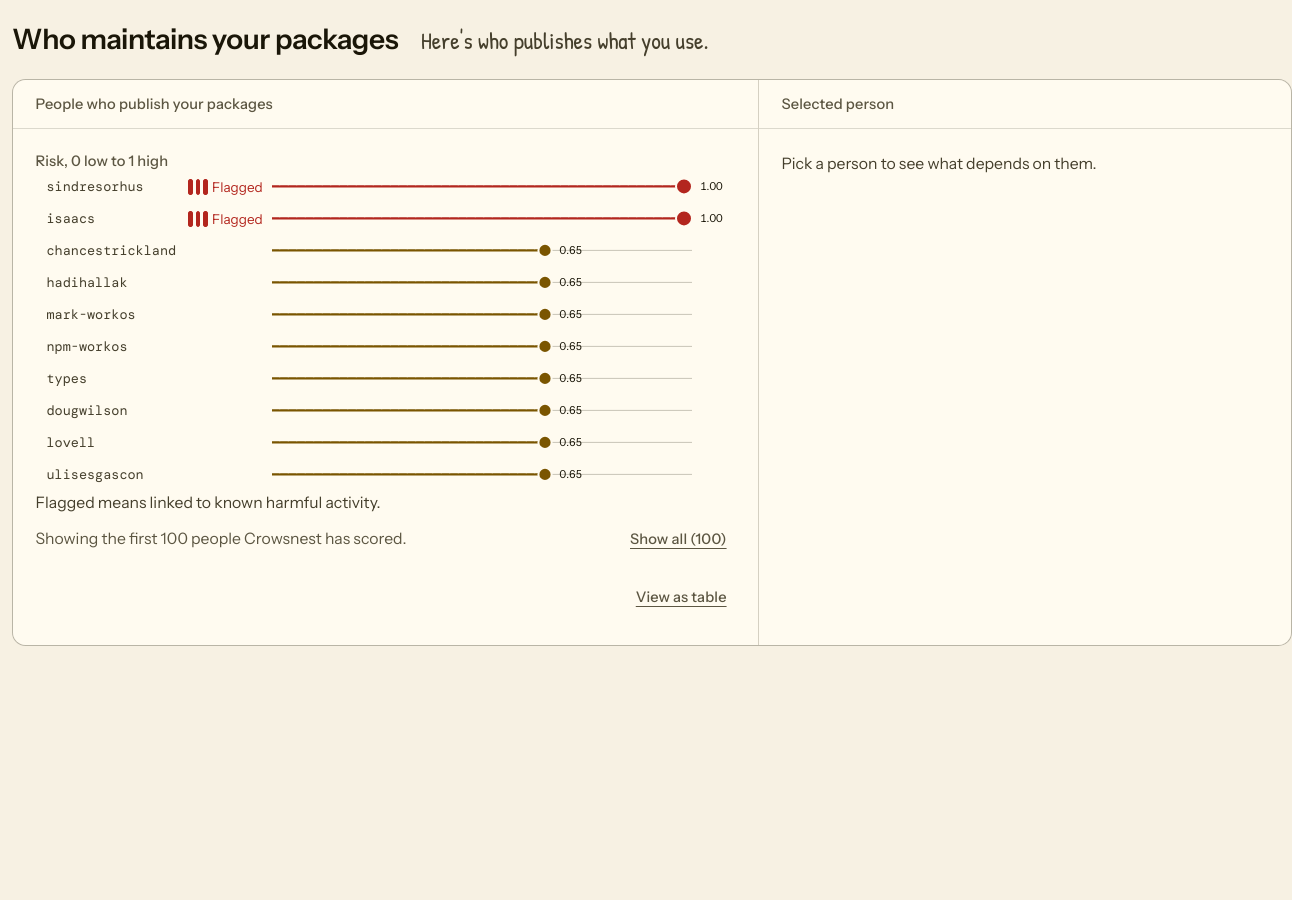
Lookout (live fixtures: risk_score arrives as "1.00") › selects a person and never contradicts itself when the blast query is empty
Click the option "sindresorhus Flagged". click: (95, 186)
box: x1=46 y1=178 x2=263 y2=195
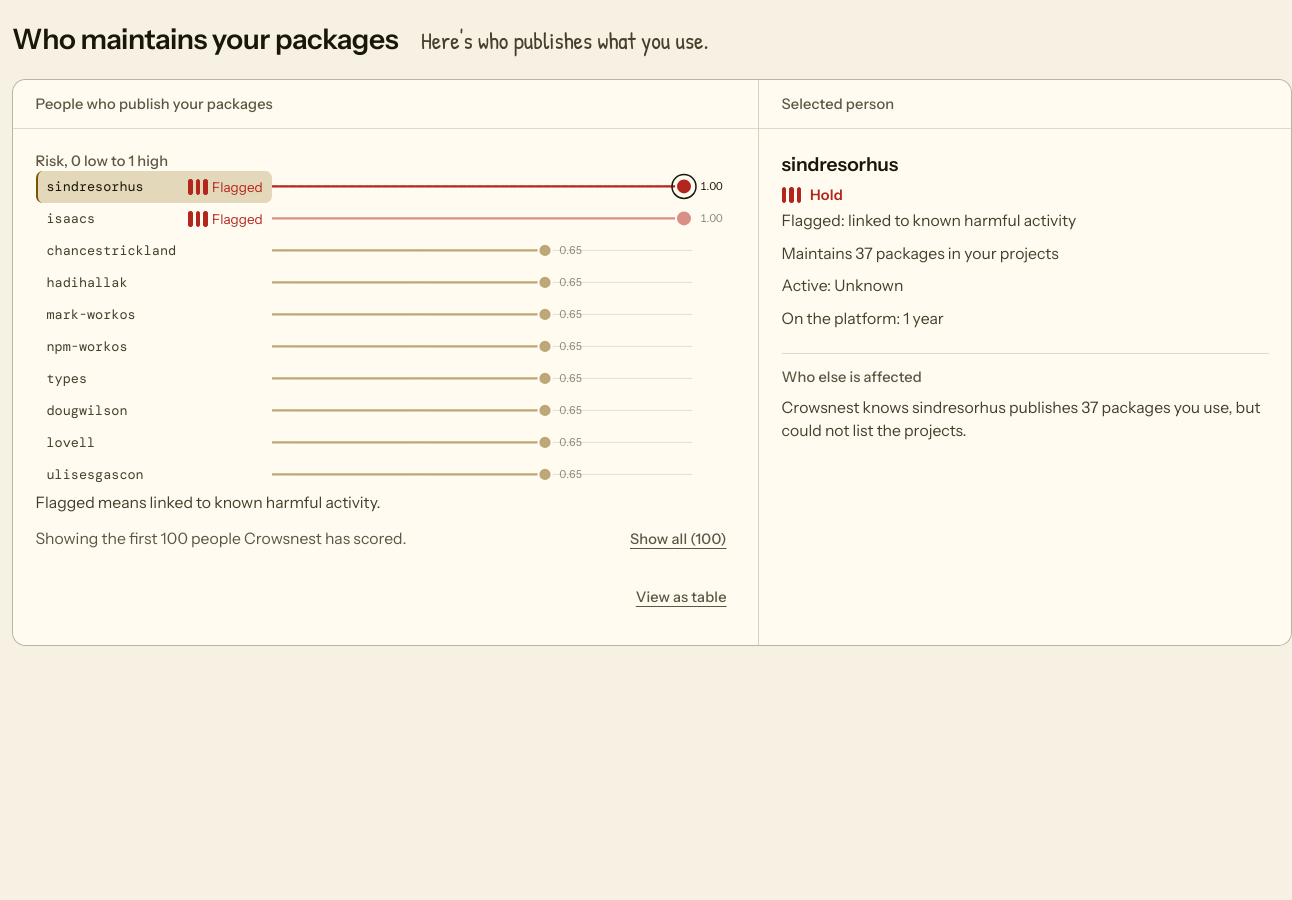
expect the text "Flagged: linked to known harmful activity" is shown: met, box x1=782 y1=211 x2=1076 y2=230
